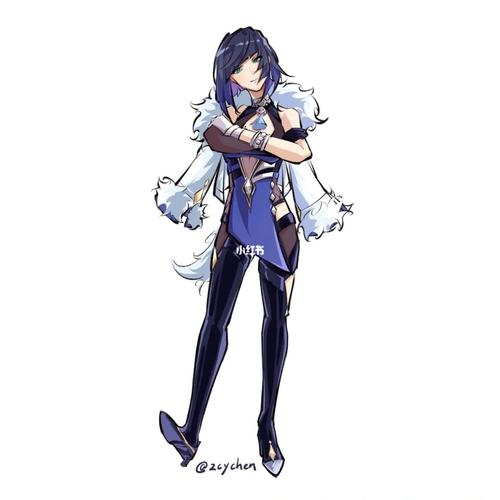夜兰: (155, 23, 355, 483)
